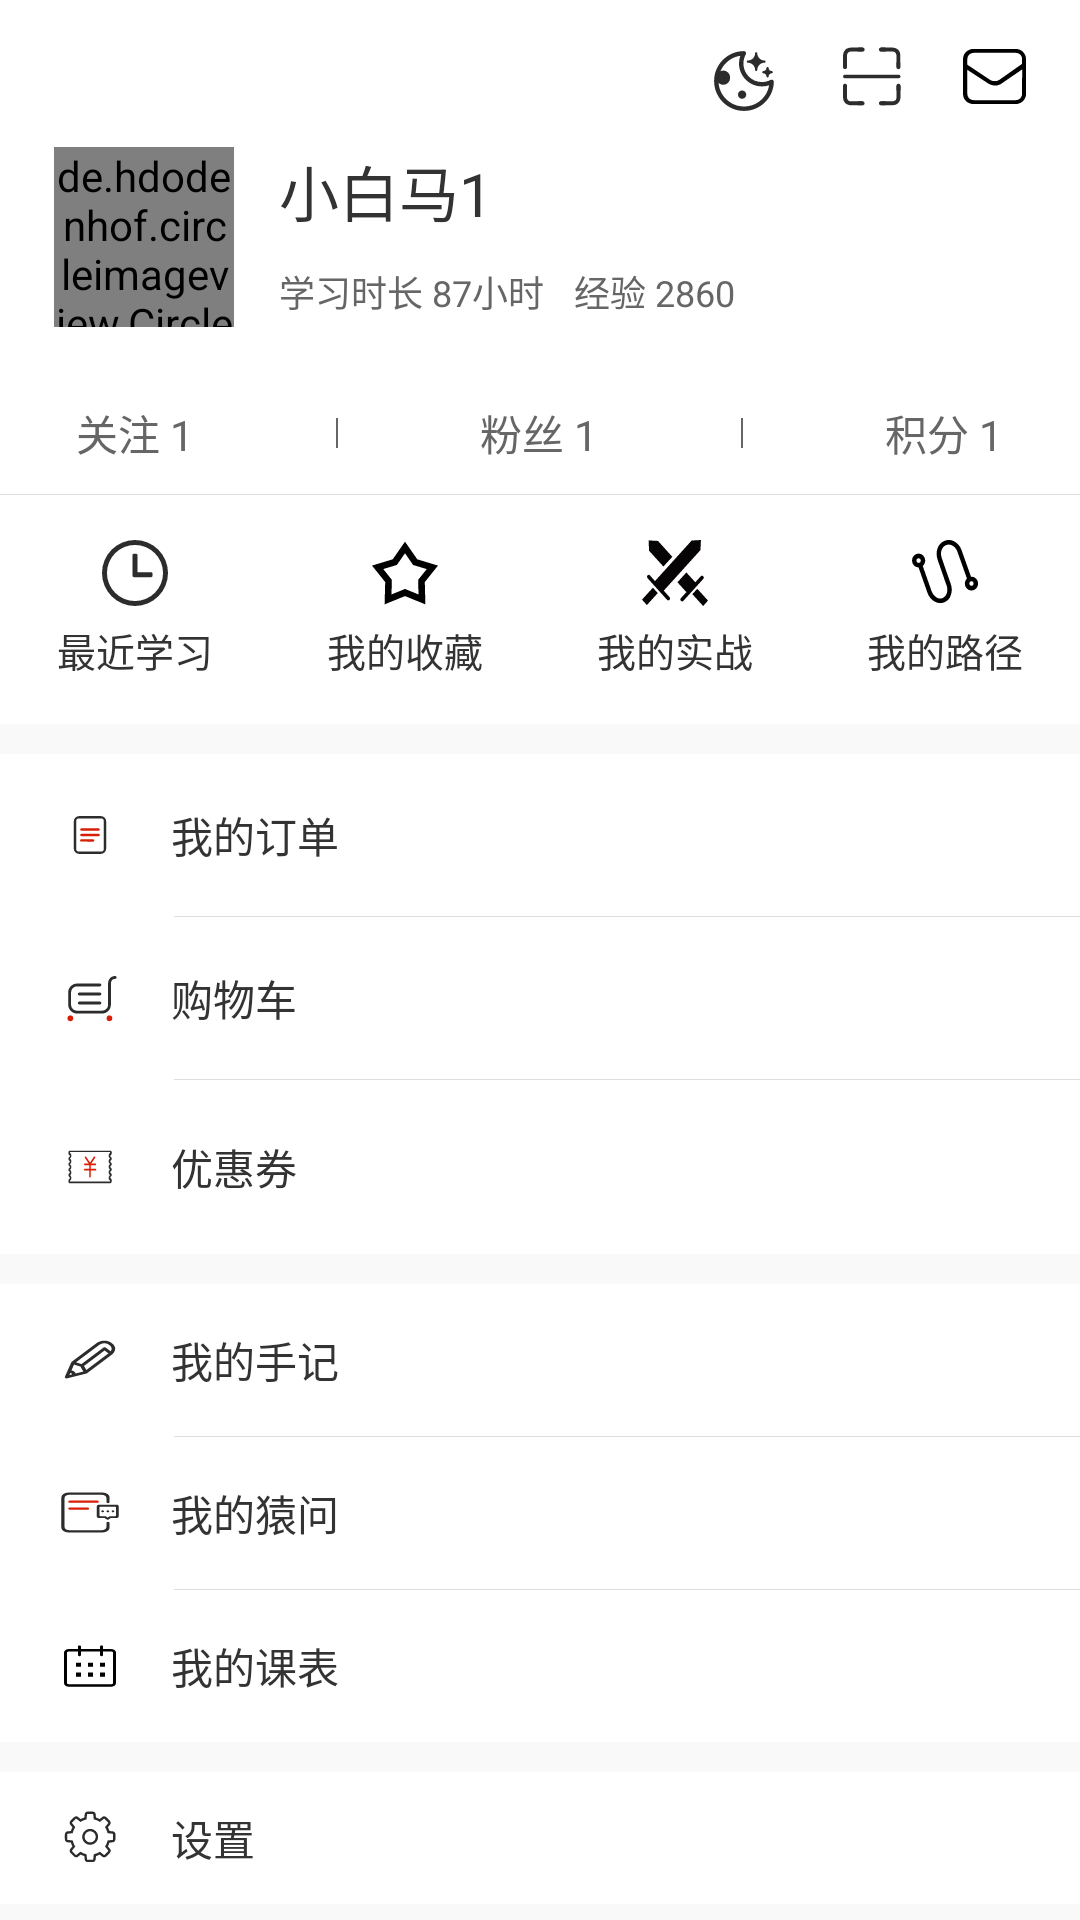

Where to tap for icons on this 1080px×1920px app screen, as (x,y):
coupon: (90,1167)
envelope: (994,76)
myask: (90,1512)
mynotes: (90,1359)
night: (744,81)
order: (90,835)
scancode: (872,76)
schedule: (90,1666)
settings: (90,1836)
shopcard: (92,999)
